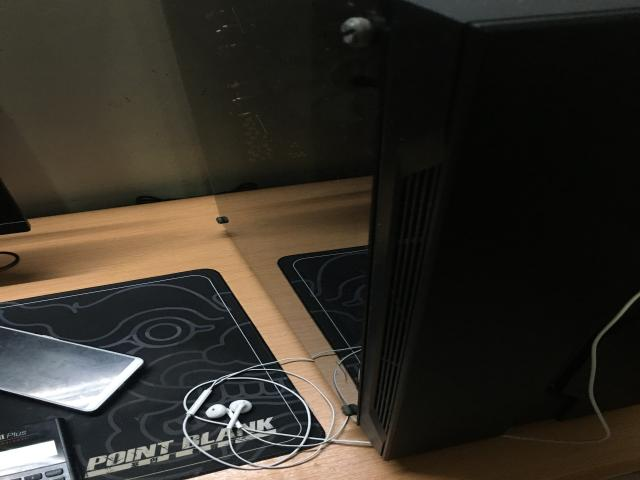Mobile phone: (0, 327, 143, 412)
wire: (205, 399, 340, 452)
